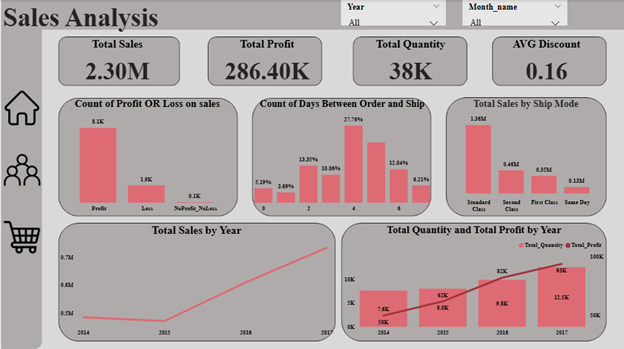

The page's visual inventory and layout, read from the dashboard file:
{"tool":"powerbi","page":{"name":"Sales","canvas":[1280,720],"ordinal":3},"visuals":[{"type":"card","title":"Total Sales","fields":{"Values":["FactOrders.Total_Sales"]},"box":[117.6,78,243.8,103.5],"z":0},{"type":"card","title":"Total Quantity","fields":{"Values":["FactOrders.Total_Quantity"]},"box":[720,78,243.8,103.5],"z":1000},{"type":"card","title":"Total Profit","fields":{"Values":["FactOrders.Total_Profit"]},"box":[425.2,78,243.8,103.5],"z":2000},{"type":"card","title":"AVG Discount","fields":{"Values":["FactOrders.AVG_Discount"]},"box":[999.2,78,243.8,103.5],"z":3000},{"type":"textbox","box":[0,0,344.4,73.7],"z":4000},{"type":"clusteredColumnChart","title":"Count of Profit OR Loss on sales ","fields":{"Category":["FactOrders.Profit_OR_Loss"],"Y":["CountNonNull(FactOrders.Profit_OR_Loss)"]},"box":[118,202,366.9,243.2],"z":5000},{"type":"lineChart","title":"Total Sales by Year","fields":{"Y":["FactOrders.Total_Sales"],"Category":["Dates.Year"]},"box":[118,460.8,568.9,238.9],"z":6000},{"type":"lineClusteredColumnComboChart","title":"Total Quantity and Total Profit by Year","fields":{"Y":["FactOrders.Total_Quantity"],"Y2":["FactOrders.Total_Profit"],"Category":["Dates.Year"]},"box":[699.7,460.8,543.3,238.9],"z":7000},{"type":"clusteredColumnChart","title":"Count of Days Between Order and Ship ","fields":{"Category":["FactOrders.Days_Between_Order_and_Ship"],"Y":["Sum(FactOrders.Days_Between_Order_and_Ship)"]},"box":[516.3,202,371.2,243.2],"z":8000},{"type":"clusteredColumnChart","title":"Total Sales by Ship Mode","fields":{"Category":["FactOrders.Ship Mode"],"Y":["FactOrders.Total_Sales"]},"box":[914.5,202,328.5,243.2],"z":9000},{"type":"image","box":[0,445,87.9,85],"z":9002},{"type":"image","box":[0,181.4,87.9,80.8],"z":9003},{"type":"image","box":[0,306.1,87.9,86.5],"z":9004},{"type":"slicer","fields":{"Values":["Dates.Year"]},"box":[698.7,0,215.4,52.4],"z":9005},{"type":"slicer","fields":{"Values":["Dates.Month_name"]},"box":[948.2,0,215.4,52.4],"z":9006}]}

Visuals, with their boxes on the page's 1280x720 design canvas (x1, y1, x2, y2). These are canvas units, not pixel positions in the 624x349 screenshot, which may show the page scaled, cropped or inside an application window:
"Total Sales" card: (118,78,361,182)
"Total Quantity" card: (720,78,964,182)
"Total Profit" card: (425,78,669,182)
"AVG Discount" card: (999,78,1243,182)
textbox: (0,0,344,74)
"Count of Profit OR Loss on sales " clusteredColumnChart: (118,202,485,445)
"Total Sales by Year" lineChart: (118,461,687,700)
"Total Quantity and Total Profit by Year" lineClusteredColumnComboChart: (700,461,1243,700)
"Count of Days Between Order and Ship " clusteredColumnChart: (516,202,888,445)
"Total Sales by Ship Mode" clusteredColumnChart: (914,202,1243,445)
image: (0,445,88,530)
image: (0,181,88,262)
image: (0,306,88,393)
slicer - Dates.Year: (699,0,914,52)
slicer - Dates.Month_name: (948,0,1164,52)
